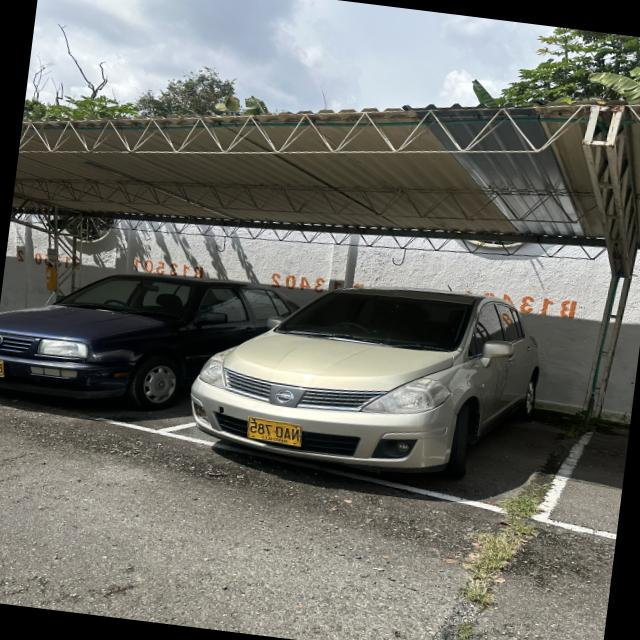number plate: (247, 416, 301, 446), (0, 360, 4, 377)
